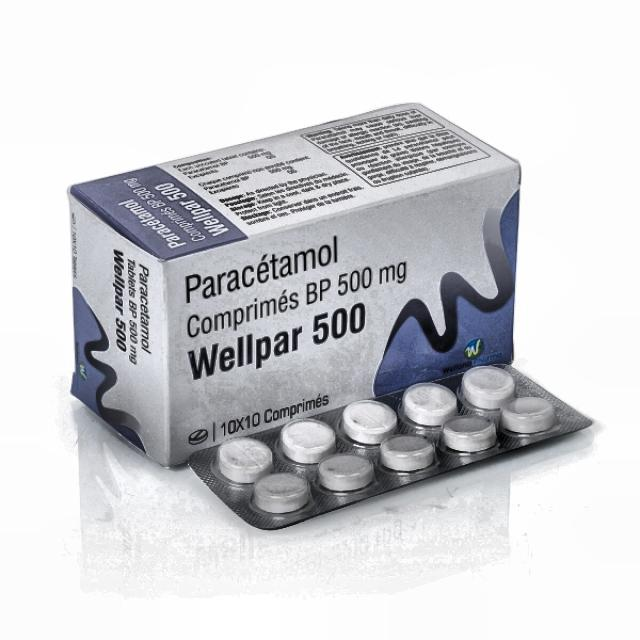Paracetamol: (163, 238, 427, 377)
